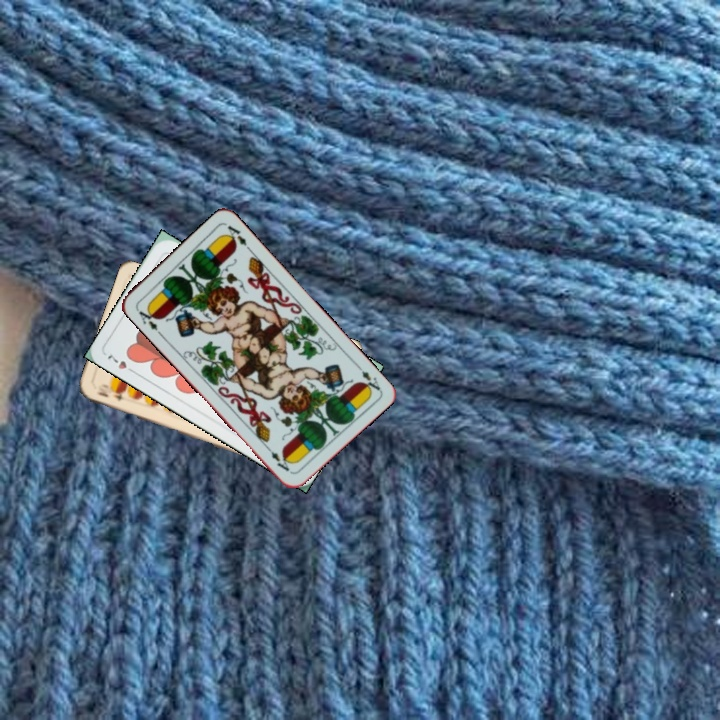E10: (92, 384, 131, 404)
EA: (132, 303, 161, 333), (357, 367, 383, 396)
H7: (103, 351, 139, 377)
